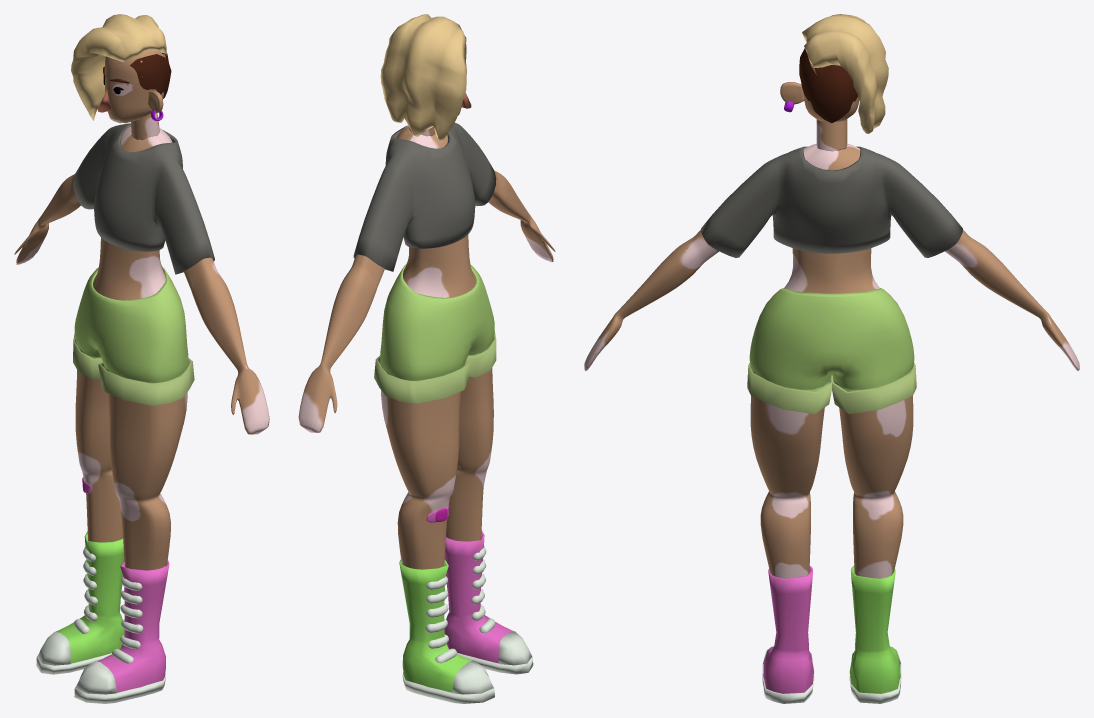
Rendered from clara-colorida-2.fbx.
3 renders of one model, left to right at view 1: azimuth 30°, elevation 25°; view 2: azimuth 150°, elevation 25°; view 3: azimuth 270°, elevation 25°, orthographic. The views are drawn at different scales.
Visible parts, largest first — view 1: 001-Clara-export; view 2: 001-Clara-export; view 3: 001-Clara-export.
Boxes of the visible parts, bbox=[...] form: 001-Clara-export: bbox=[14, 14, 269, 703]; 001-Clara-export: bbox=[298, 14, 555, 703]; 001-Clara-export: bbox=[584, 14, 1079, 703].
Bounding box in the file's own units: 98.63 × 519 × 342.
16 materials, 2 textured.
